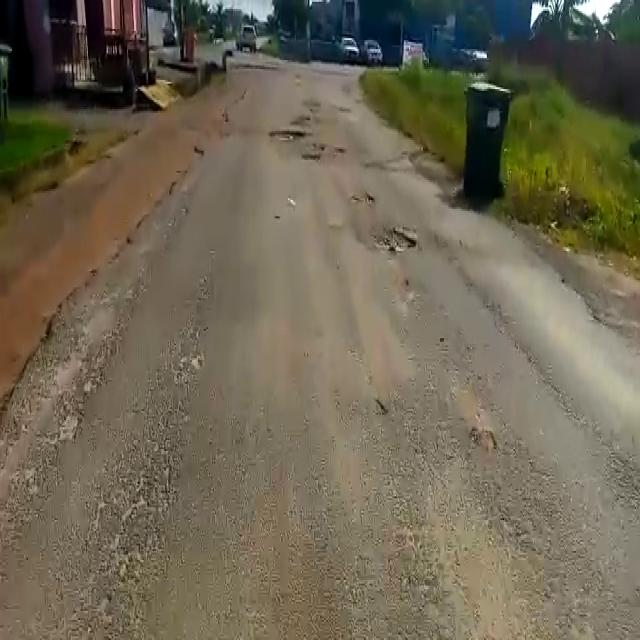Pothole: (376, 226, 422, 255), (269, 126, 307, 139), (300, 147, 330, 161)
